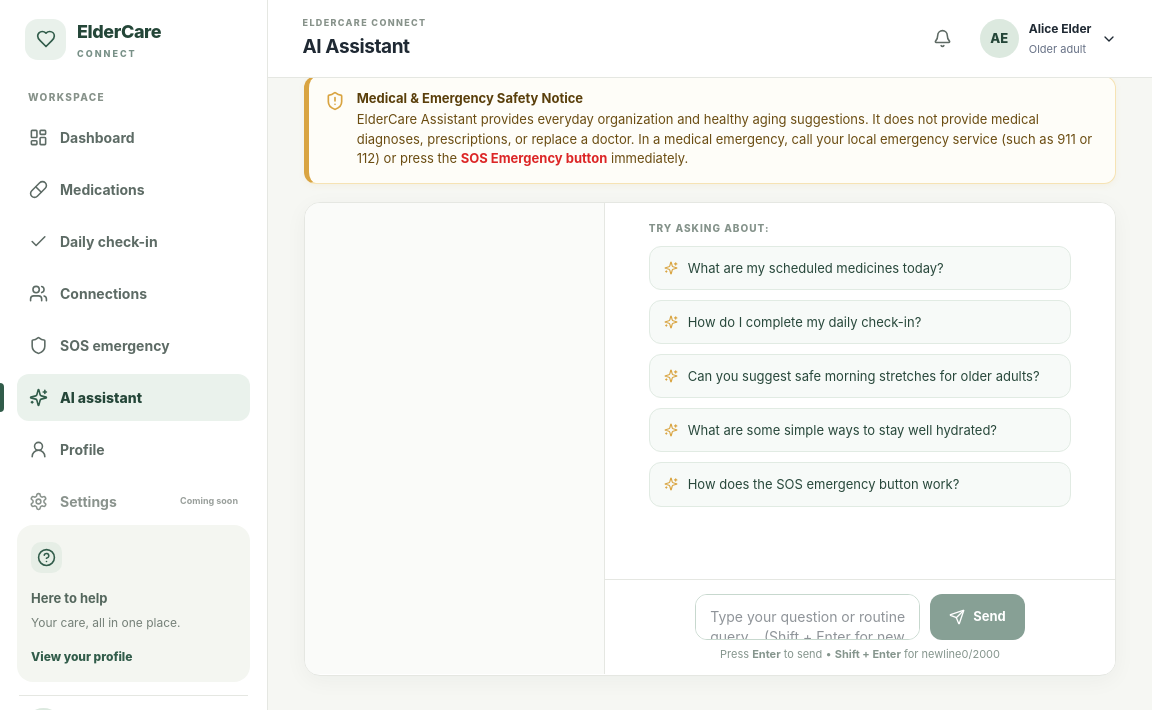
Scenario: Module 7 AI Eldercare Assistant frontend workflows › sends a user message and displays the assistant response with safe formatting
(page scrolled)
Type "How do check-ins work?" into the text box with placeholder "Type your question or routine query" at (808, 617), box [695, 594, 920, 640]
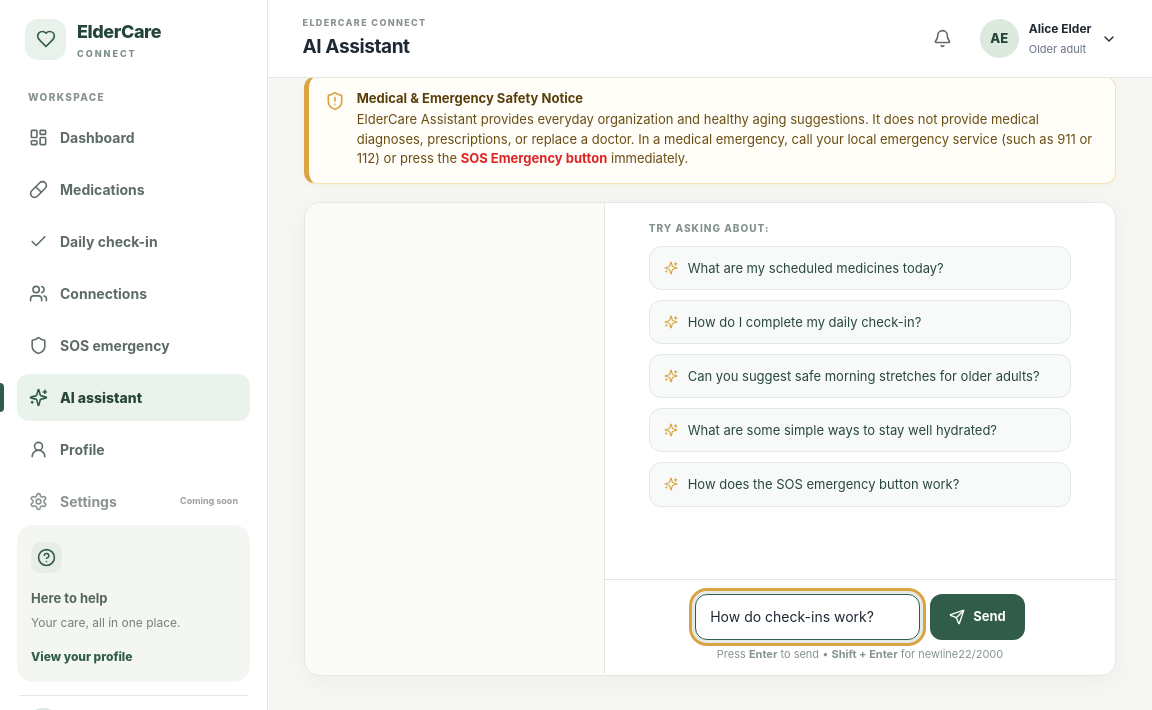
Click the button "Send" at (977, 617), box [930, 594, 1025, 640]
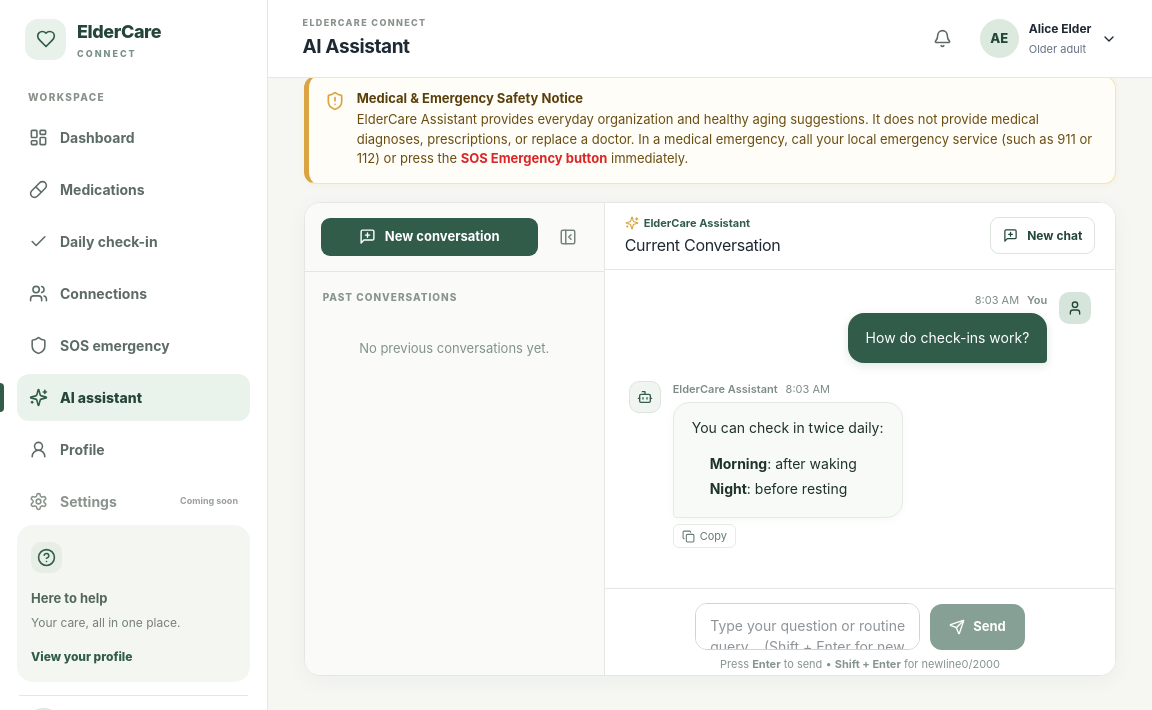
Expected: the text "How do check-ins work?" is shown, [866, 327, 1029, 349]
Expected: the text "You can check in twice daily:" is shown, [692, 417, 884, 439]
Expected: the text "Night" is shown, [710, 480, 747, 497]
